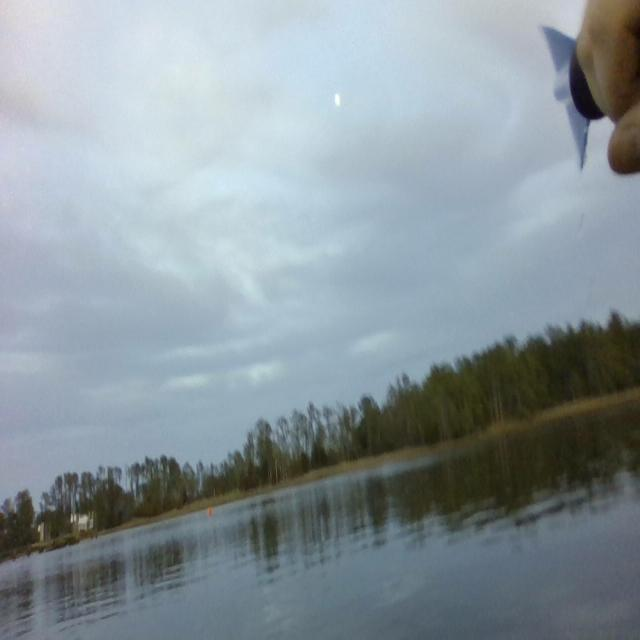Buoy: (206, 505, 214, 517)
